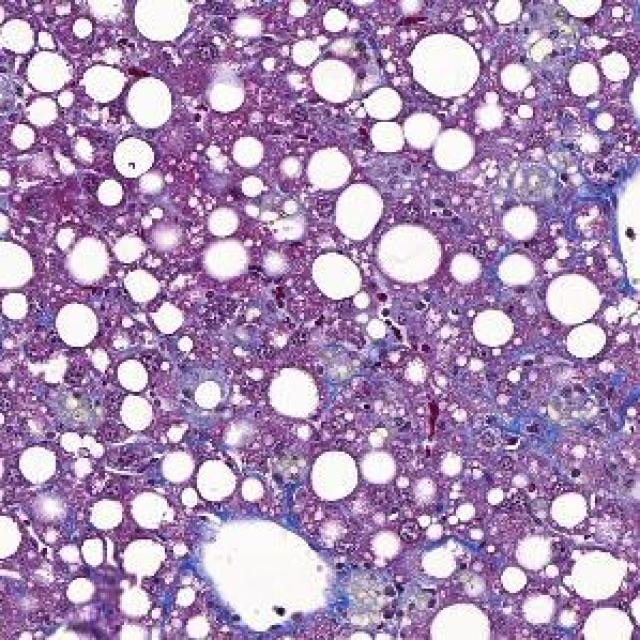fibrosis: (424, 353, 638, 478)
